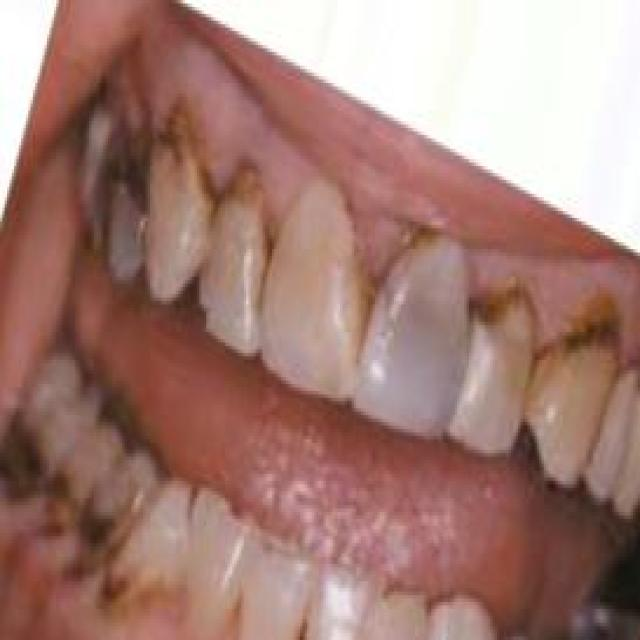caries: (544, 278, 634, 387), (152, 89, 212, 192), (75, 485, 134, 565), (102, 124, 149, 219), (471, 266, 528, 342), (220, 146, 277, 220), (98, 558, 152, 630), (38, 460, 76, 540)
